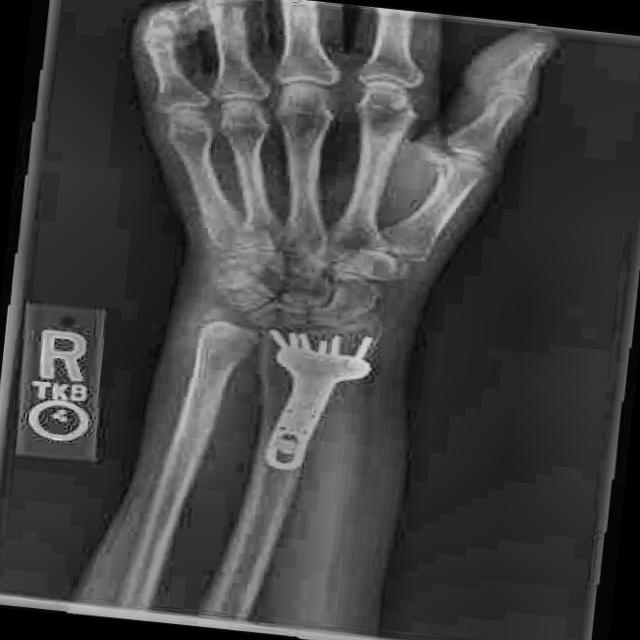wrist positive: (323, 312, 396, 357)
